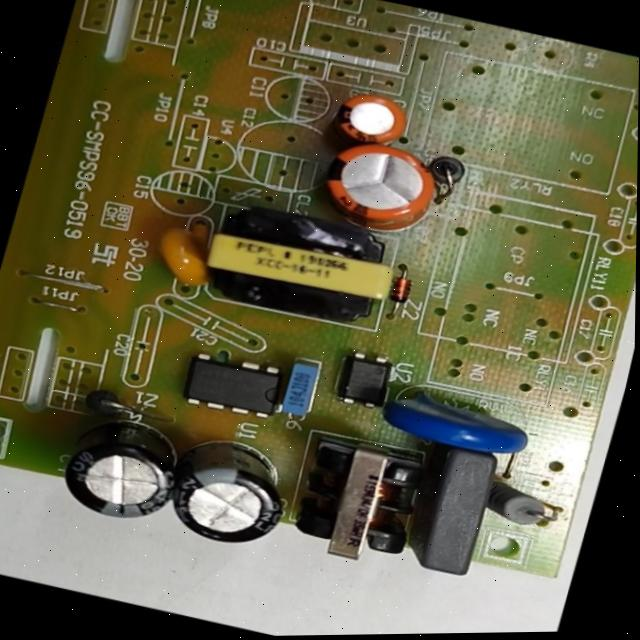Cap1: (292, 121, 458, 248)
Cap2: (317, 75, 428, 161)
Cap3: (140, 420, 309, 569)
Cap4: (45, 402, 201, 537)
MOSFET: (171, 338, 295, 427)
Mov: (367, 373, 549, 474)
Resistor: (468, 472, 564, 539)
Transformer: (180, 186, 416, 345), (272, 427, 449, 586)
